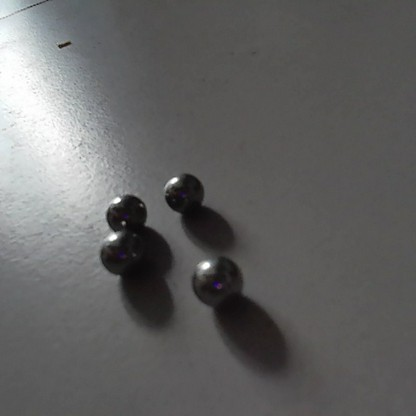ironball: (186, 256, 249, 310), (98, 229, 144, 279), (104, 189, 153, 233), (161, 170, 205, 216)
